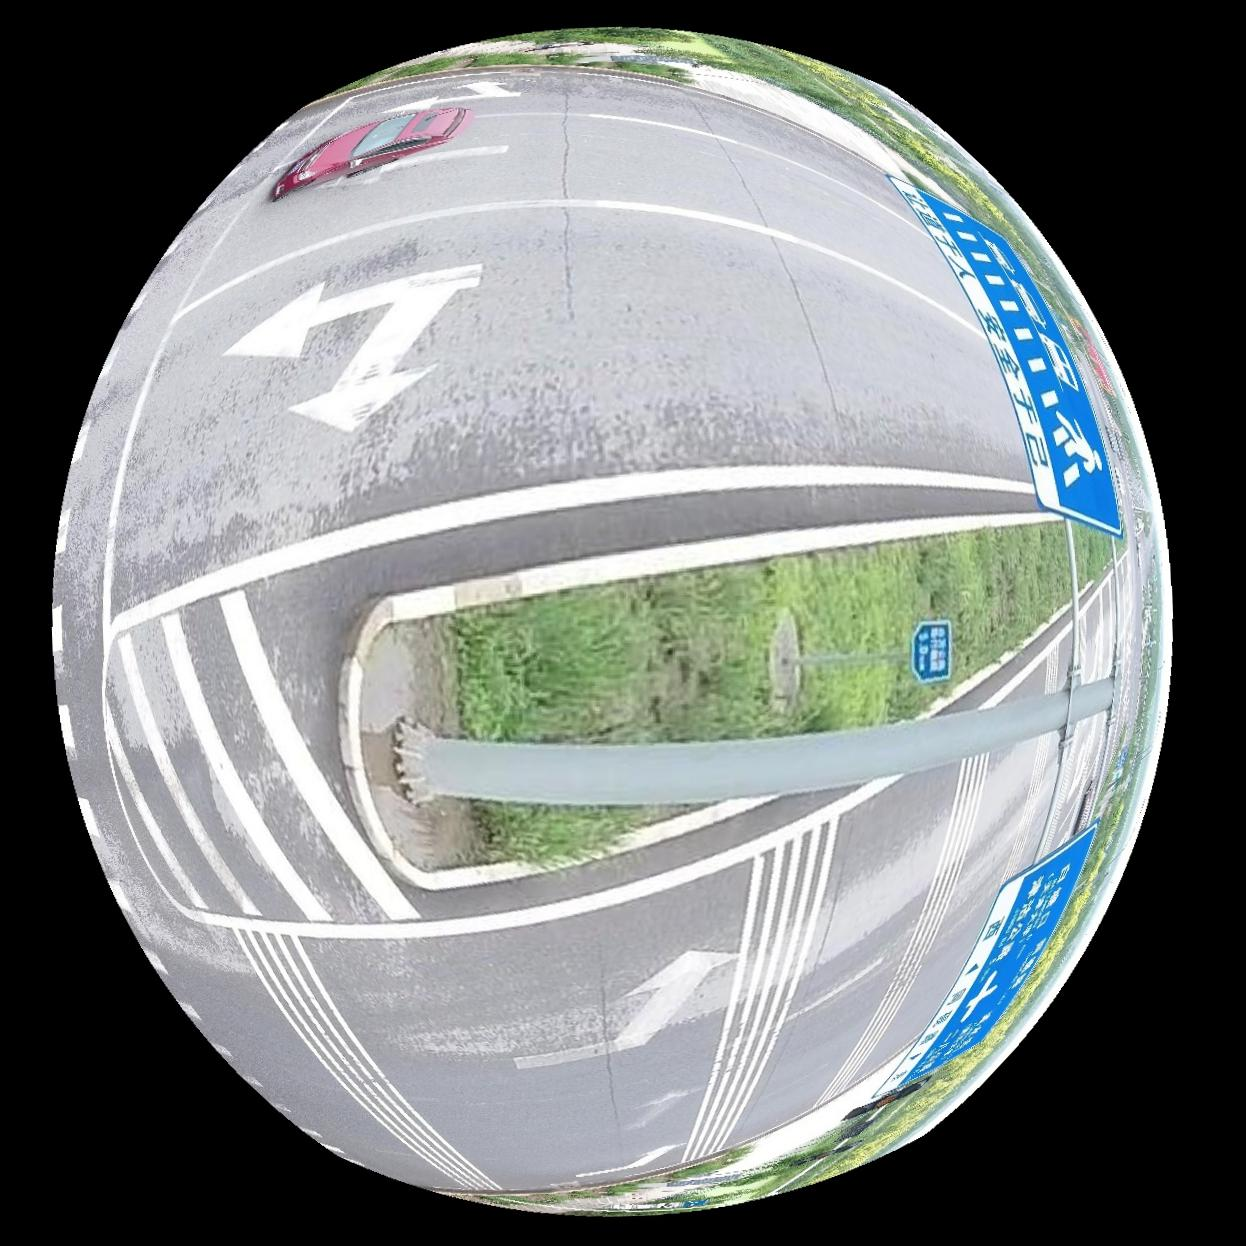cars: (271, 106, 472, 197)
